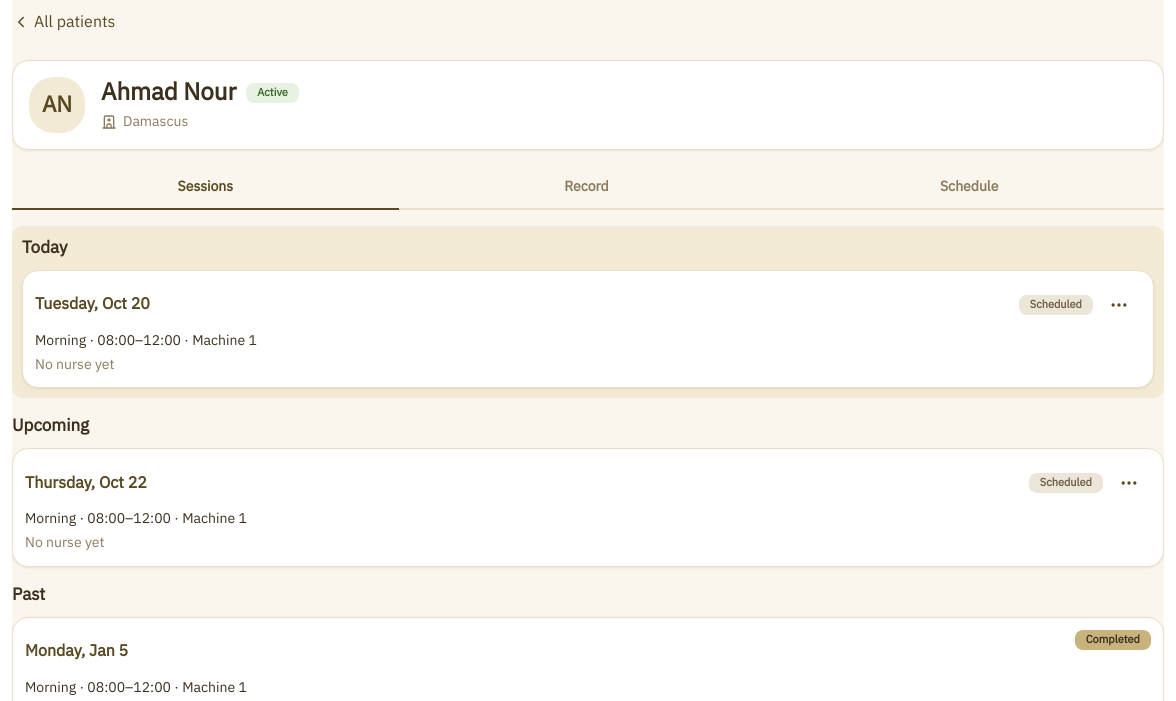
it: PatientPage session actions › hides Move without schedule.book
The width and height of the screenshot is (1176, 701).
Click the button named "Actions for ": coordinates (1129, 483) [1107,461,1151,505]
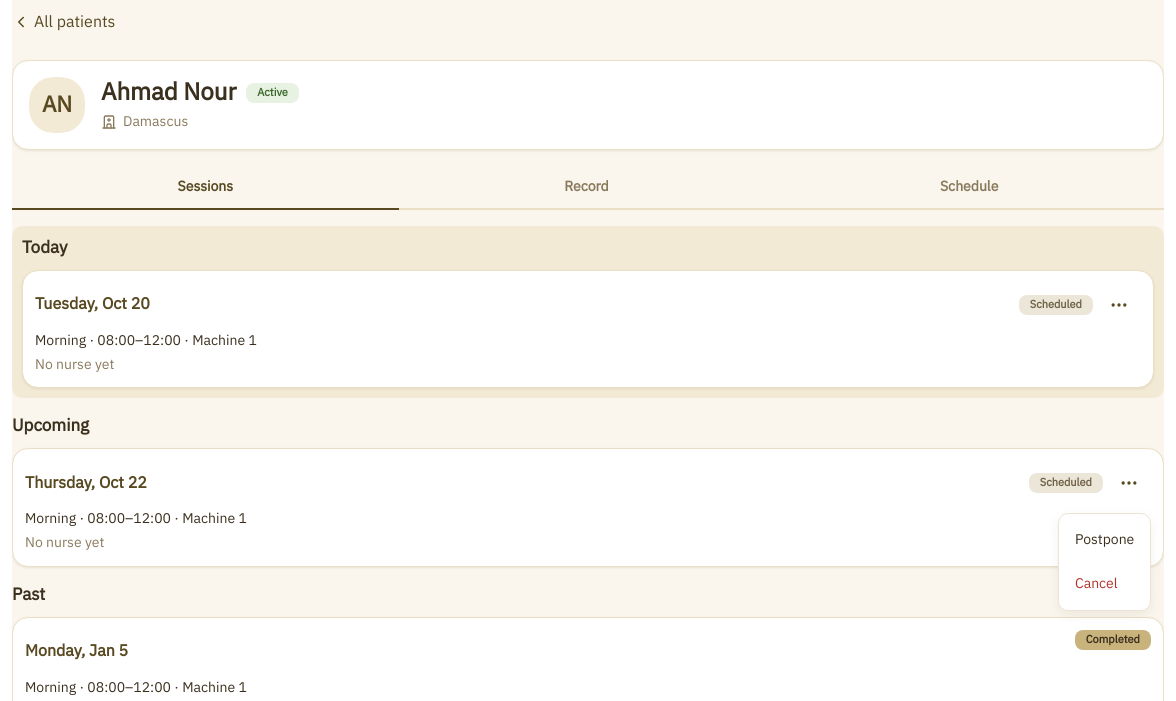
Now the menu item "Cancel" is shown, box [1063,562,1146,606]
